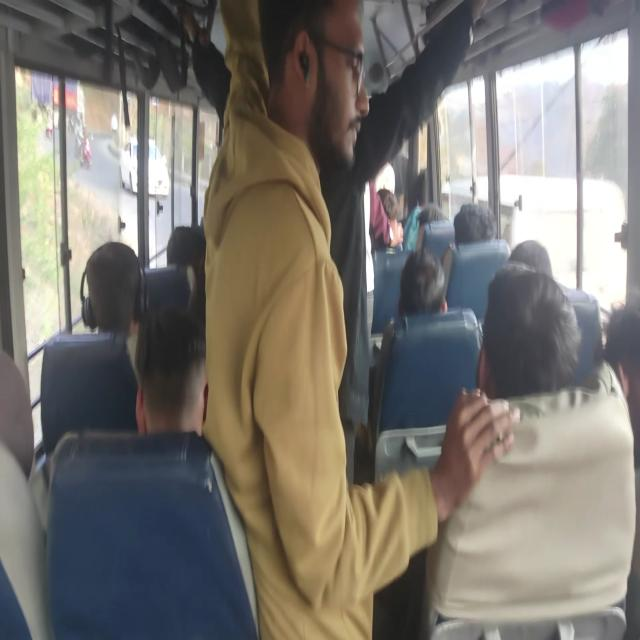person: (300, 21, 378, 230), (272, 0, 354, 180), (128, 320, 204, 460), (0, 354, 58, 524), (487, 269, 559, 397), (595, 304, 640, 436), (81, 254, 141, 322), (169, 232, 221, 294), (408, 253, 446, 323), (516, 230, 553, 299), (455, 195, 490, 254), (418, 211, 462, 244), (408, 167, 434, 203), (381, 184, 398, 219)
